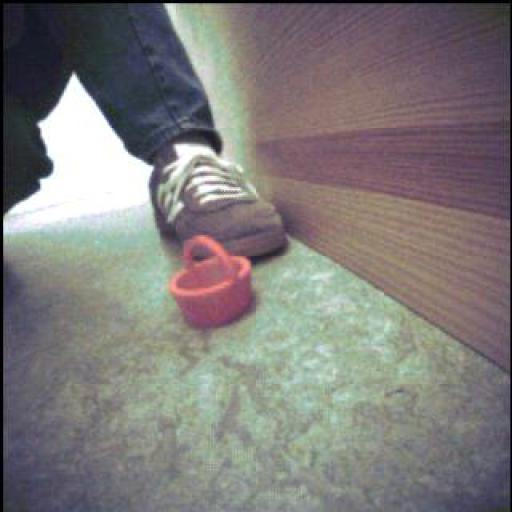Bucket: (171, 236, 254, 329)
